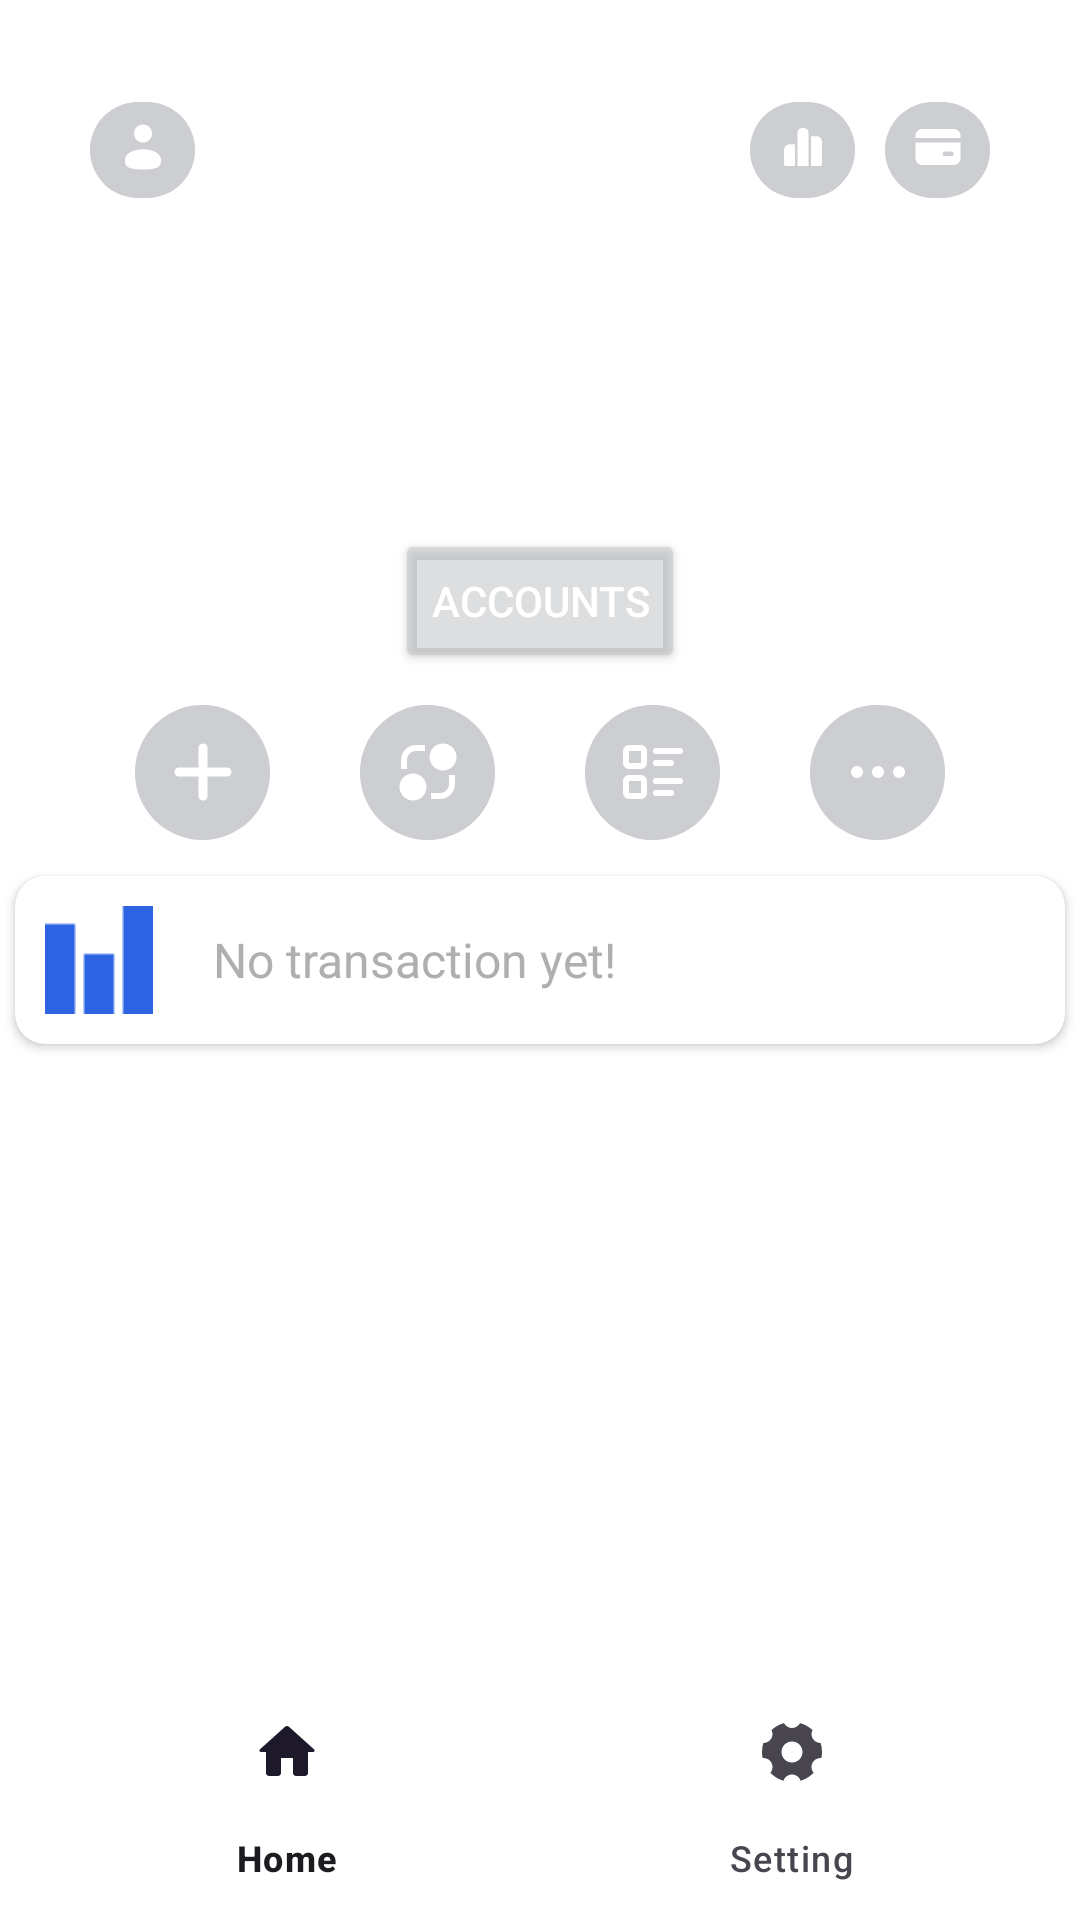

Where icons sit on this 1080 × 1920 app screen, as (x1, y1, x2, y2):
add: (135, 705, 270, 840)
bank card: (885, 102, 990, 198)
data: (750, 102, 855, 198)
details: (585, 705, 720, 840)
exchange: (360, 705, 495, 840)
more: (810, 705, 945, 840)
user: (90, 102, 195, 198)
